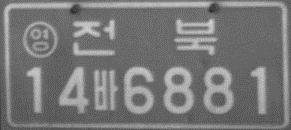1: (21, 65, 52, 114), (245, 66, 274, 115)
4: (57, 66, 88, 115)
6: (122, 65, 154, 115)
8: (201, 65, 235, 115), (162, 66, 194, 114)
바: (92, 68, 118, 111)
영: (21, 20, 58, 59)
전북_D: (69, 18, 217, 58)
